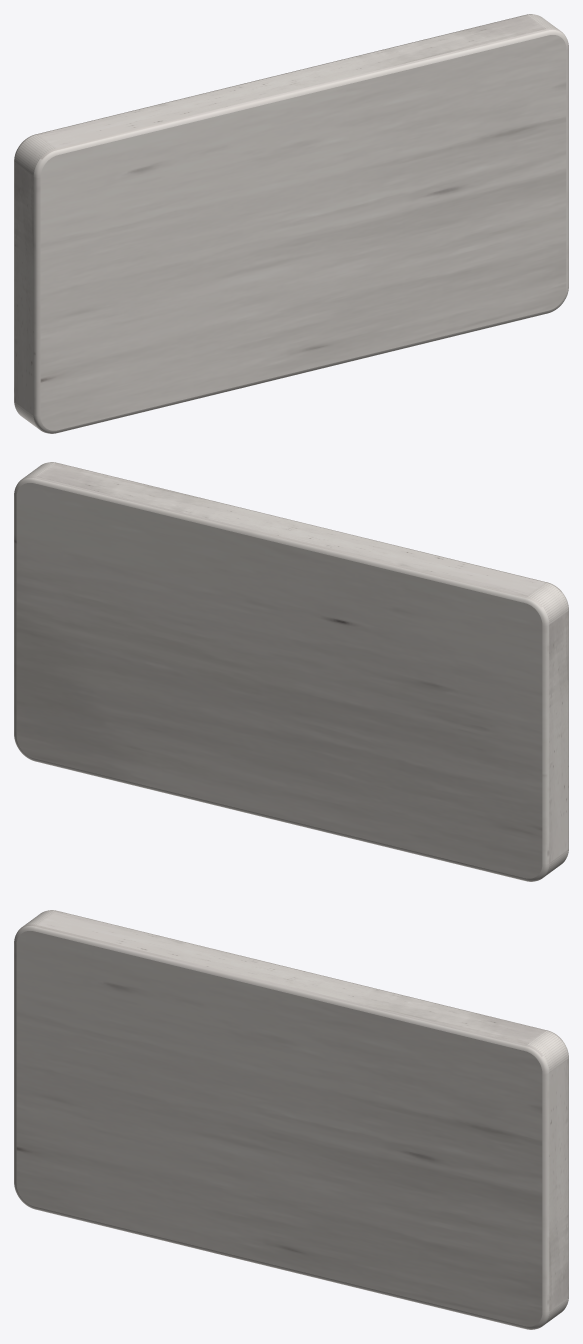
Rendered from ice.fbx.
3 views of the same model, one above another, from view 1: azimuth 30°, elevation 25°; view 2: azimuth 150°, elevation 25°; view 3: azimuth 330°, elevation 25° (orthographic).
Parts seen in each view (by area): view 1: ice; view 2: ice; view 3: ice.
Boxes of the visible parts, left/top/right/bottom form: ice: left=14, top=14, right=568, bottom=433; ice: left=14, top=462, right=568, bottom=881; ice: left=14, top=910, right=568, bottom=1329.
Bounding box in the file's own units: 12.2 × 6.2 × 0.95.
